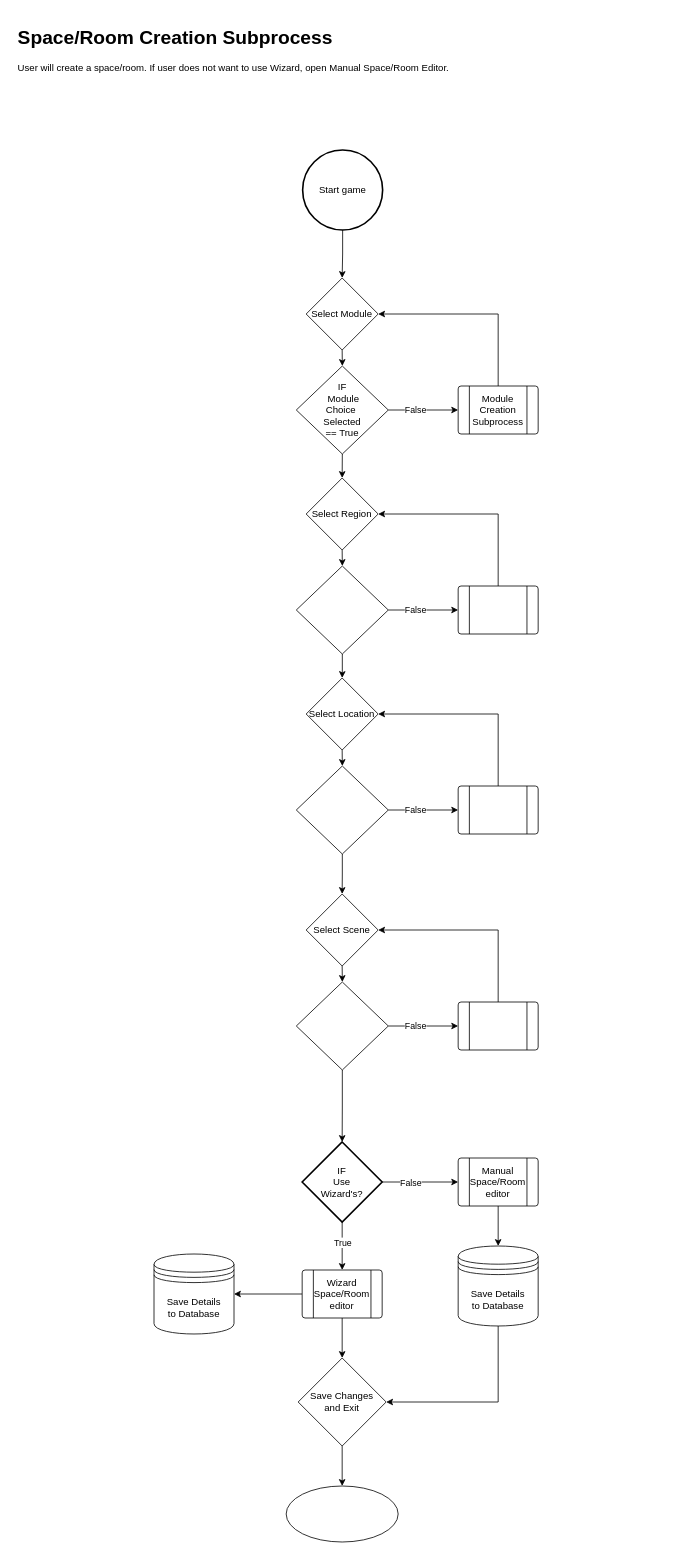
Image size: 691x1556. Some labels were removed from this diagram. The shapes that lost their labels are listed below. From the top down, each one's centre as x and y in pixels, then its label:
At pixel 342 609: "IF Region Choice Selected == True".
At pixel 497 609: "Region Creation Subprocess".
At pixel 342 809: "IF Location Choice Selected == True".
At pixel 497 809: "Location Creation Subprocess".
At pixel 342 1025: "IF Scene Choice Selected == True".
At pixel 497 1025: "Scene Creation Subprocess".
At pixel 341 1513: "Stop Space/Room Creation Subprocess".
